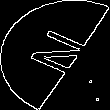N_SE: (15, 26, 95, 84)
